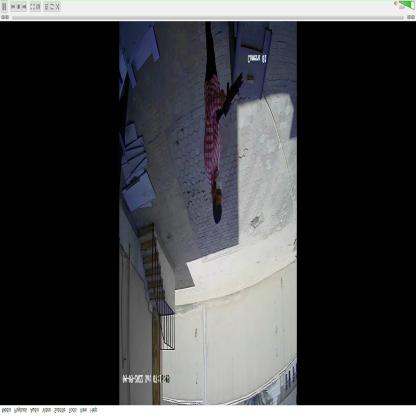handgun: (214, 71, 245, 128)
